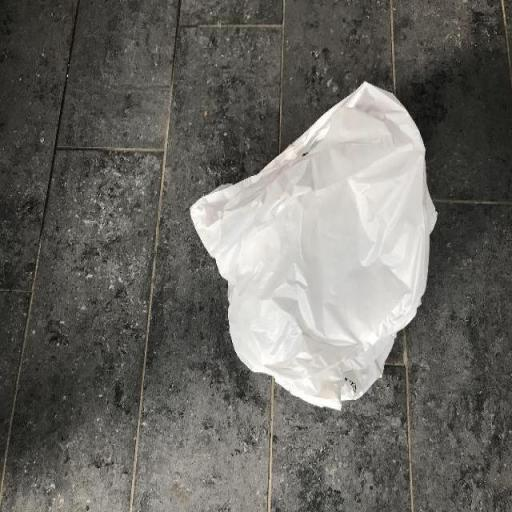plastic-bag: (188, 80, 440, 412)
